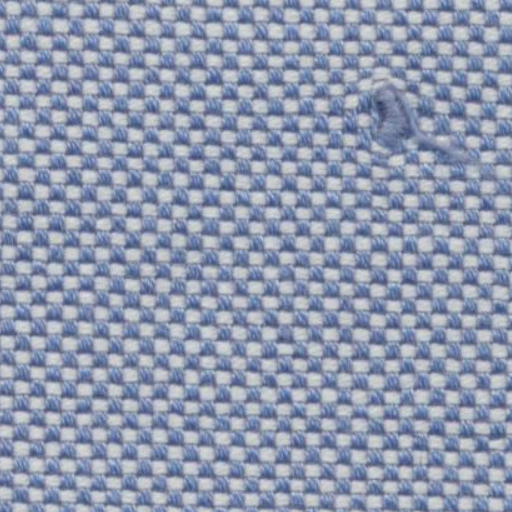MianQiu: (324, 59, 465, 186)
